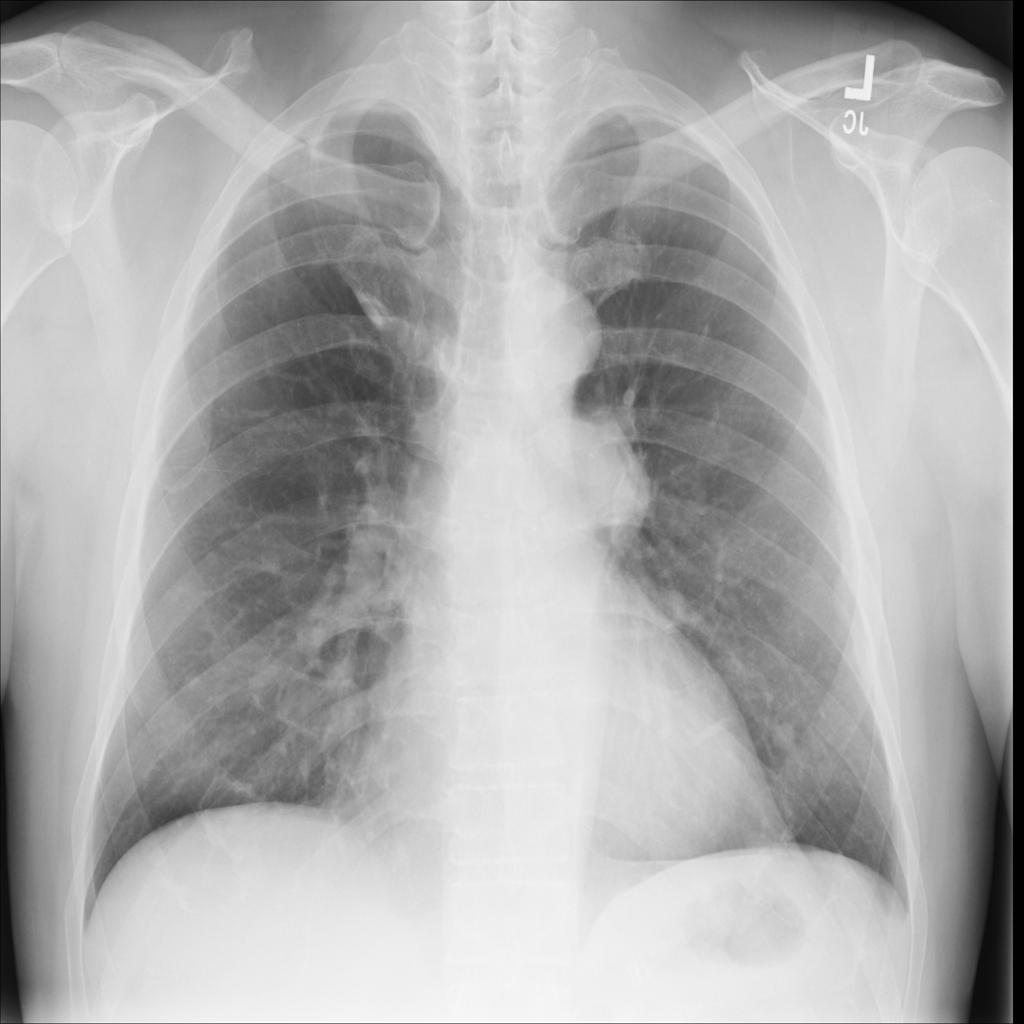nodule: (634, 571, 702, 650), (762, 707, 808, 761)
